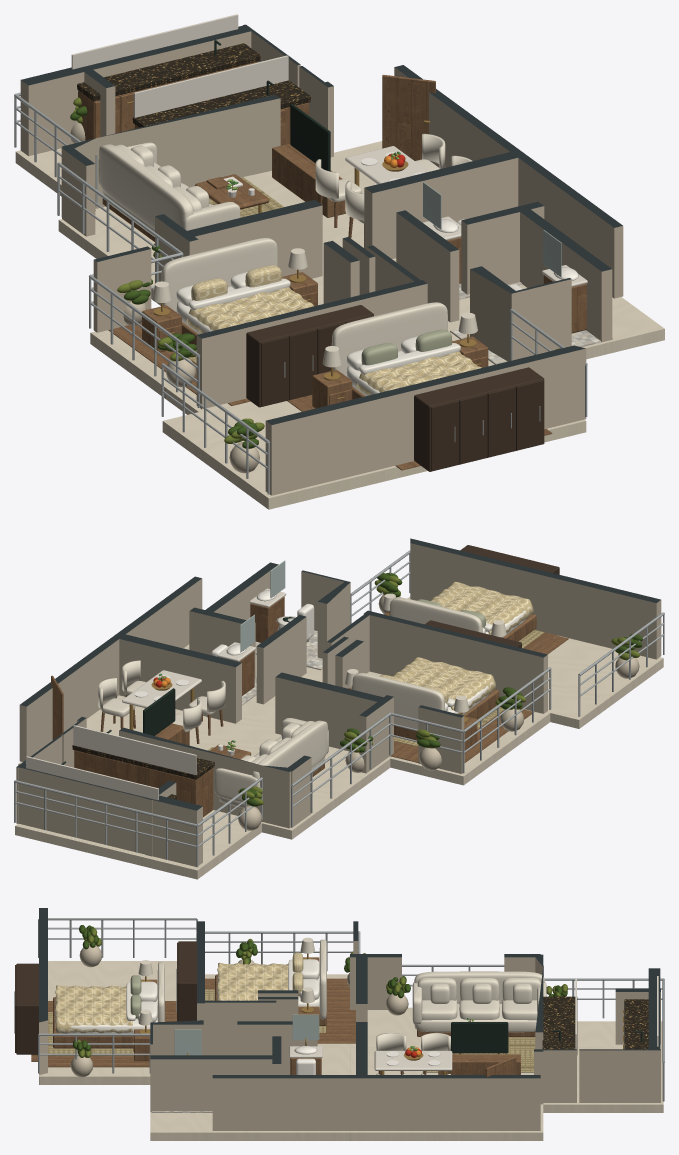
3 renders of one model, top to bottom at view 1: azimuth 30°, elevation 25°; view 2: azimuth 150°, elevation 25°; view 3: azimuth 270°, elevation 25°, orthographic. The views are drawn at different scales.
Visible parts, largest first — view 1: Source-traced internal and perimeter walls • Wall, Continuous apartment foundation, Sofa back, Backsplash.001, Padded headboard, Padded headboard.001, Oak entrance door, Fitted dark wardrobe.001, Deep green kitchen stone, Fitted dark wardrobe, Soft jacquard duvet with folds, Backsplash (+20 smaller); view 2: Source-traced internal and perimeter walls • Wall, Continuous apartment foundation, Base cabinets.001, Backsplash.001, Soft jacquard duvet with folds, Soft jacquard duvet with folds.001, Padded headboard, Sofa back, Padded headboard.001, Backsplash, Full bedroom wood flooring, Dining top (+10 smaller); view 3: Source-traced internal and perimeter walls • Wall, Continuous apartment foundation, Soft jacquard duvet with folds.001, Soft jacquard duvet with folds, Fitted dark wardrobe.001, Full bedroom wood flooring, Television, Deep green kitchen stone.001, Fitted dark wardrobe, Dining top, Full bedroom wood flooring.001, Deep green kitchen stone (+31 smaller).
Boxes of the visible parts, x1,y1,x2,y2 form: Source-traced internal and perimeter walls • Wall: [20, 24, 623, 495]; Continuous apartment foundation: [15, 141, 664, 509]; Sofa back: [99, 144, 193, 229]; Backsplash.001: [133, 55, 288, 117]; Padded headboard: [161, 238, 277, 311]; Padded headboard.001: [331, 302, 447, 376]; Oak entrance door: [382, 74, 435, 160]; Fitted dark wardrobe.001: [414, 367, 544, 471]; Deep green kitchen stone: [77, 43, 260, 98]; Fitted dark wardrobe: [246, 305, 373, 407]; Soft jacquard duvet with folds: [186, 287, 313, 333]; Backsplash: [71, 14, 238, 69]; Source-traced internal and perimeter walls • Wall: [16, 538, 661, 866]; Continuous apartment foundation: [15, 596, 663, 879]; Base cabinets.001: [74, 750, 212, 816]; Backsplash.001: [73, 725, 196, 774]; Soft jacquard duvet with folds: [393, 657, 496, 714]; Soft jacquard duvet with folds.001: [431, 581, 534, 637]; Padded headboard: [352, 673, 445, 729]; Sofa back: [252, 720, 327, 779]; Padded headboard.001: [390, 597, 482, 632]; Backsplash: [26, 756, 158, 800]; Full bedroom wood flooring: [390, 709, 534, 762]; Dining top: [122, 670, 201, 708]; Source-traced internal and perimeter walls • Wall: [39, 908, 660, 1130]; Continuous apartment foundation: [39, 961, 663, 1140]; Soft jacquard duvet with folds.001: [55, 985, 132, 1033]; Soft jacquard duvet with folds: [217, 962, 288, 1000]; Fitted dark wardrobe.001: [16, 963, 38, 1054]; Full bedroom wood flooring: [205, 978, 355, 1043]; Television: [451, 1022, 508, 1053]; Deep green kitchen stone.001: [542, 996, 577, 1054]; Fitted dark wardrobe: [178, 941, 196, 1021]; Dining top: [374, 1050, 452, 1070]; Full bedroom wood flooring.001: [48, 1001, 176, 1067]; Deep green kitchen stone: [624, 999, 648, 1049].
Size of the model in its own units: 7.94 by 1.7 by 12.56.
Materials: 26 (6 with a texture image).
